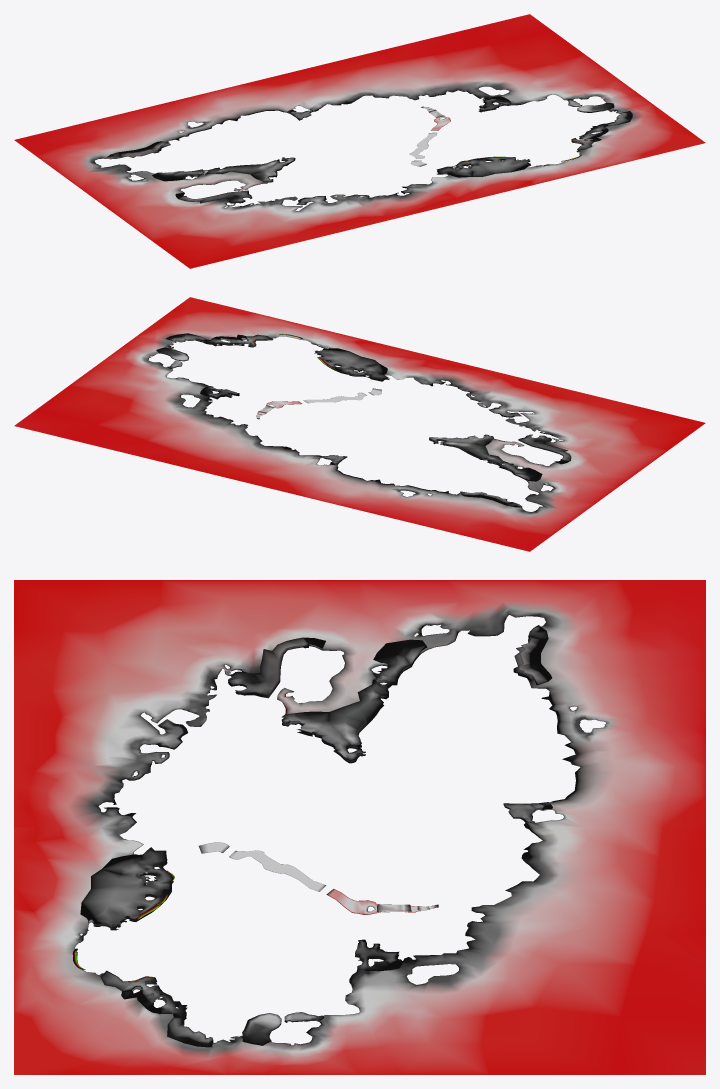
Rendered from Water.fbx.
The picture shows the model from 3 angles, top to bottom: view 1: azimuth 30°, elevation 25°; view 2: azimuth 150°, elevation 25°; view 3: azimuth 270°, elevation 25°; orthographic projection. The views are drawn at different scales.
Visible parts, largest first — view 1: water_01, water_Lianyi, River; view 2: water_01, water_Lianyi, River; view 3: water_01, water_Lianyi, River.
Boxes of the visible parts, x1,y1,x2,y2 form: water_01: (14,14,705,268); water_Lianyi: (106,96,632,203); River: (409,106,450,166); water_01: (14,297,705,551); water_Lianyi: (156,333,571,507); River: (256,388,381,419); water_01: (14,580,705,1074); water_Lianyi: (80,625,552,1047); River: (199,842,438,914).
Bounding box in the file's own units: 528 × 1.4 × 312.
